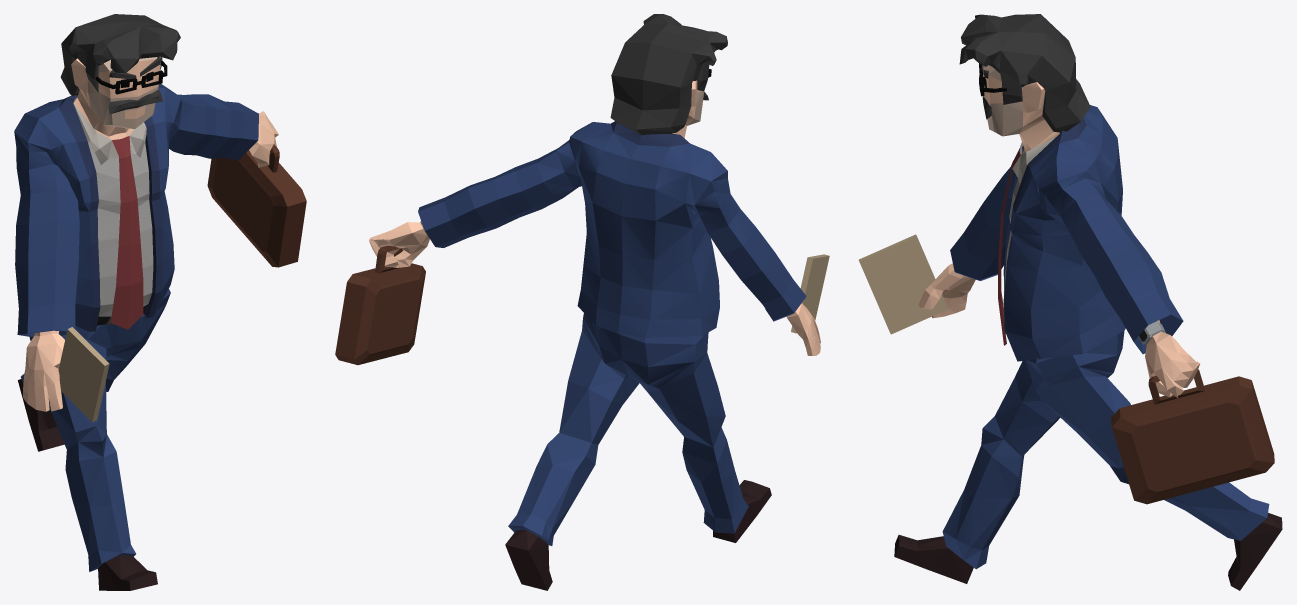
File: Character_Lawyer_final.glb
3 renders of one model, left to right at view 1: azimuth 30°, elevation 25°; view 2: azimuth 150°, elevation 25°; view 3: azimuth 270°, elevation 25°, orthographic. The views are drawn at different scales.
Parts seen in each view (by area): view 1: SK_Character_Father_02.002; view 2: SK_Character_Father_02.002; view 3: SK_Character_Father_02.002.
Part boxes in pixels (<box>): SK_Character_Father_02.002: <box>14,14,306,590</box>; SK_Character_Father_02.002: <box>335,14,829,590</box>; SK_Character_Father_02.002: <box>858,14,1282,590</box>.
Size of the model in its own units: 1.23 by 1.76 by 1.19.
1 material, 1 textured.
